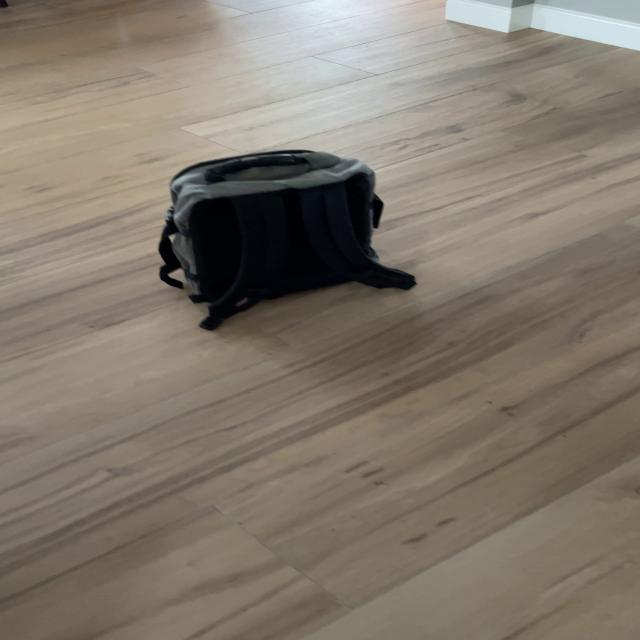backpack: (140, 140, 407, 330)
